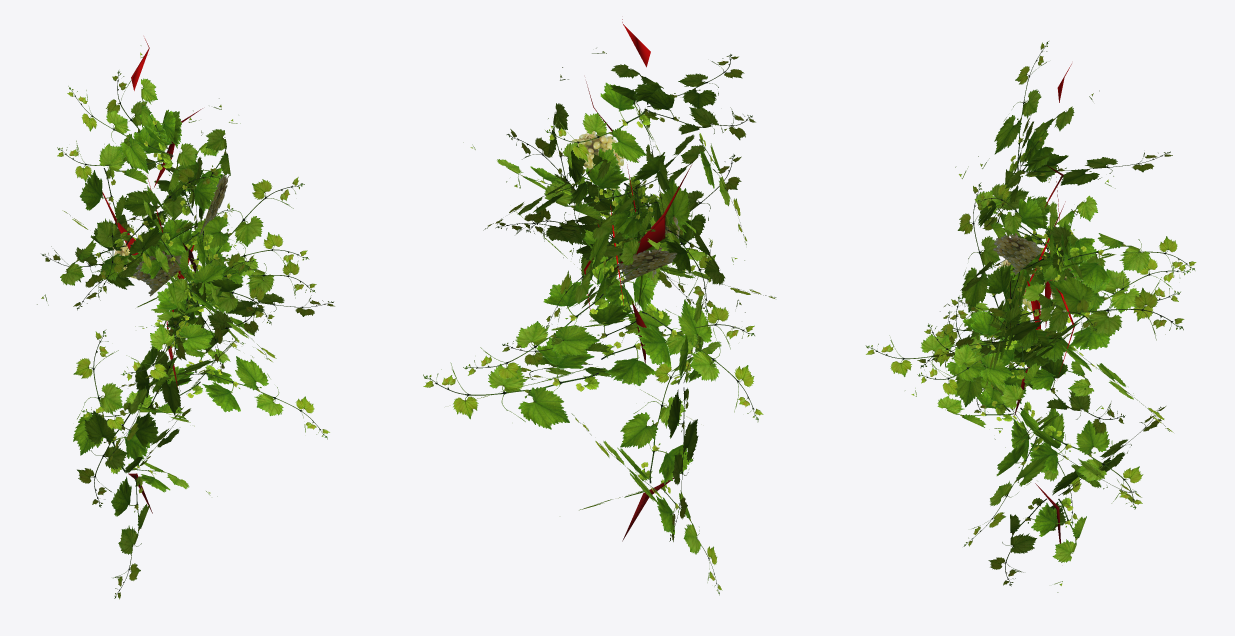
The model's file is grape2 lod3.FBX.
The picture shows the model from 3 angles, left to right: view 1: azimuth 30°, elevation 25°; view 2: azimuth 150°, elevation 25°; view 3: azimuth 270°, elevation 25°; orthographic projection. The views are drawn at different scales.
Parts seen in each view (by area): view 1: grape005; view 2: grape005; view 3: grape005.
Boxes of the visible parts, bbox=[...] form: grape005: bbox=[37, 38, 334, 599]; grape005: bbox=[423, 19, 776, 595]; grape005: bbox=[865, 41, 1196, 592].
Bounding box in the file's own units: 24911 × 43563 × 26223.
